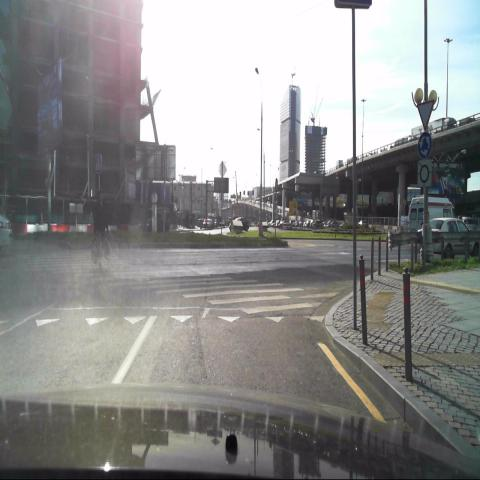4_3: (418, 131, 432, 159)
8_13_1: (419, 160, 433, 190)
